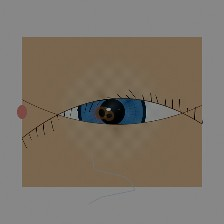foreign_body_visible: (94, 104, 124, 127)
